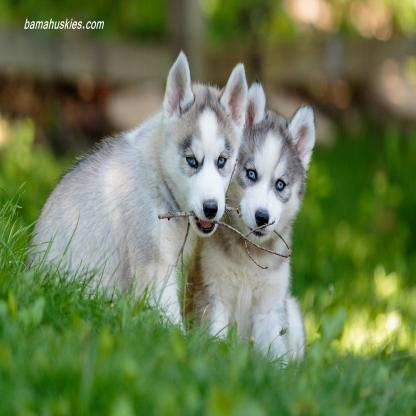dog: (25, 51, 246, 333), (192, 81, 319, 360)
